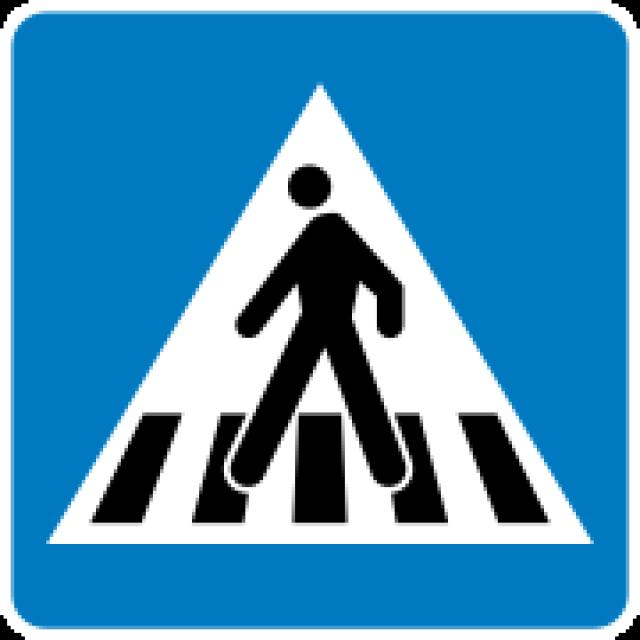Pedestrian crosswalk: (29, 33, 607, 595)
